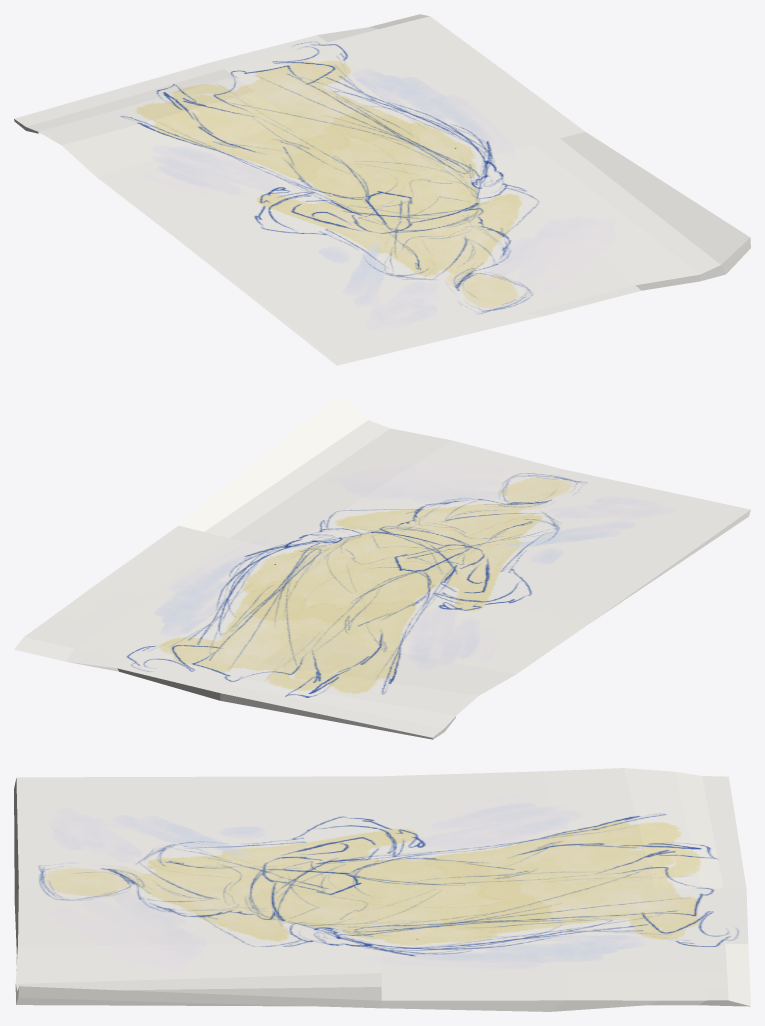
File: fashion_sketch_paper_2.fbx
The picture shows the model from 3 angles, top to bottom: view 1: azimuth 30°, elevation 25°; view 2: azimuth 150°, elevation 25°; view 3: azimuth 270°, elevation 25°; orthographic projection. The views are drawn at different scales.
Parts seen in each view (by area): view 1: fashion_sketch_paper_2; view 2: fashion_sketch_paper_2; view 3: fashion_sketch_paper_2.
Boxes of the visible parts, bbox=[...] form: fashion_sketch_paper_2: bbox=[14, 14, 750, 365]; fashion_sketch_paper_2: bbox=[14, 394, 750, 739]; fashion_sketch_paper_2: bbox=[14, 768, 750, 1011].
Size of the model in its own units: 14.52 by 19.92 by 1.02.
Materials: 1 (1 with a texture image).
